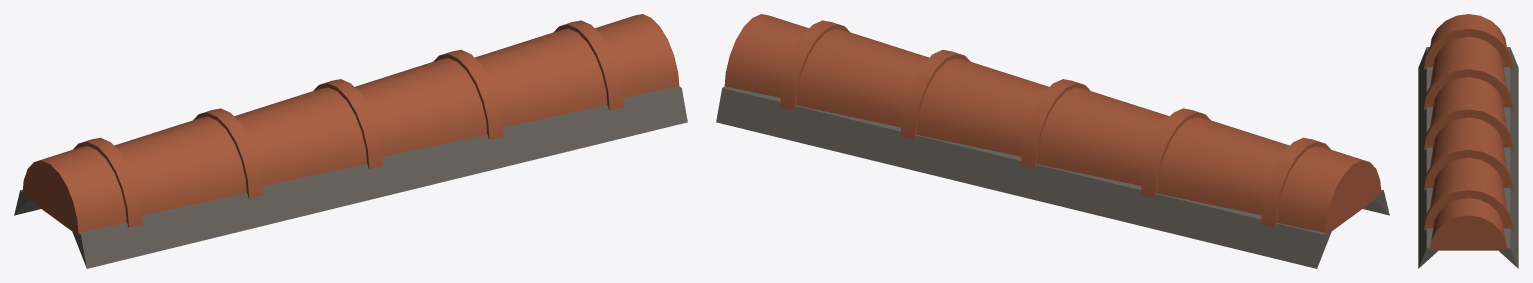
File: toit--tuile.glb
The picture shows the model from 3 angles, left to right: view 1: azimuth 30°, elevation 25°; view 2: azimuth 150°, elevation 25°; view 3: azimuth 270°, elevation 25°; orthographic projection. The views are drawn at different scales.
Parts seen in each view (by area): view 1: faitiere; view 2: faitiere; view 3: faitiere.
Part boxes in pixels (x1=…): faitiere: x1=14, y1=14, x2=687, y2=268; faitiere: x1=716, y1=14, x2=1389, y2=268; faitiere: x1=1418, y1=14, x2=1518, y2=268.
Bounding box in the file's own units: 2 × 0.272 × 0.42.
